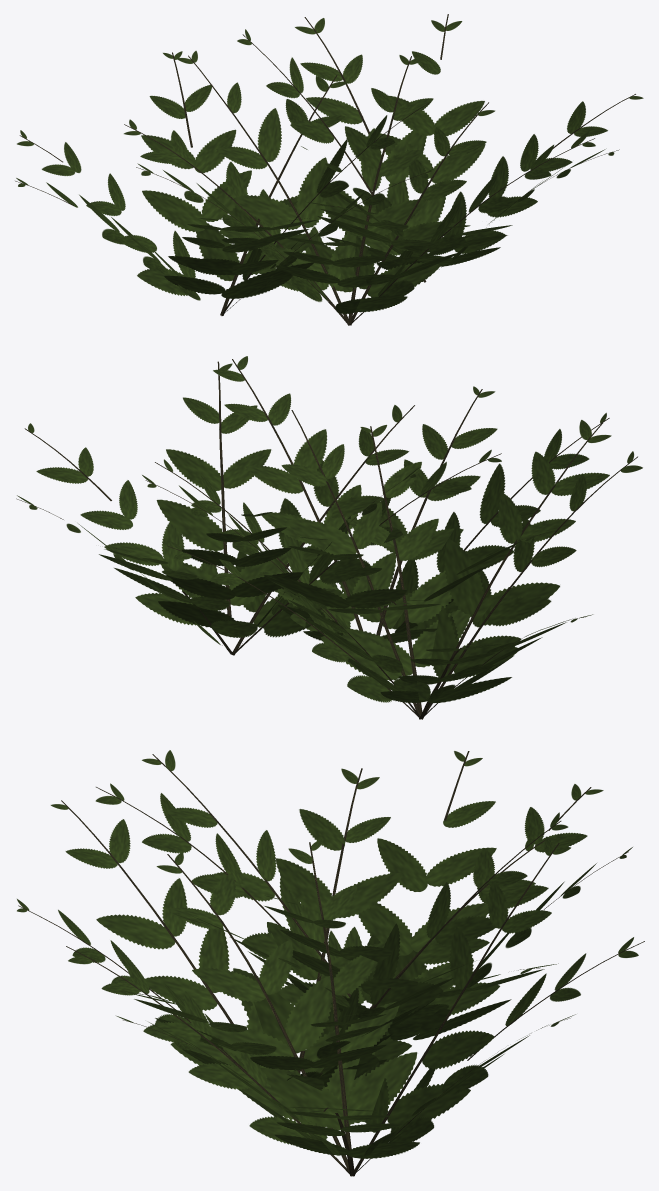
File: rock_fern_v02_LOD1.glb
3 renders of one model, top to bottom at view 1: azimuth 30°, elevation 25°; view 2: azimuth 150°, elevation 25°; view 3: azimuth 270°, elevation 25°, orthographic. The views are drawn at different scales.
Visible parts, largest first — view 1: rock_fern_v02_LOD1; view 2: rock_fern_v02_LOD1; view 3: rock_fern_v02_LOD1.
Part boxes in pixels (box(x1,y1,x2,y2)): rock_fern_v02_LOD1: box(15, 14, 643, 325); rock_fern_v02_LOD1: box(16, 356, 642, 719); rock_fern_v02_LOD1: box(17, 750, 644, 1176).
Size of the model in its own units: 0.3969 by 0.1424 by 0.2993.
Materials: 2 (2 with a texture image).
